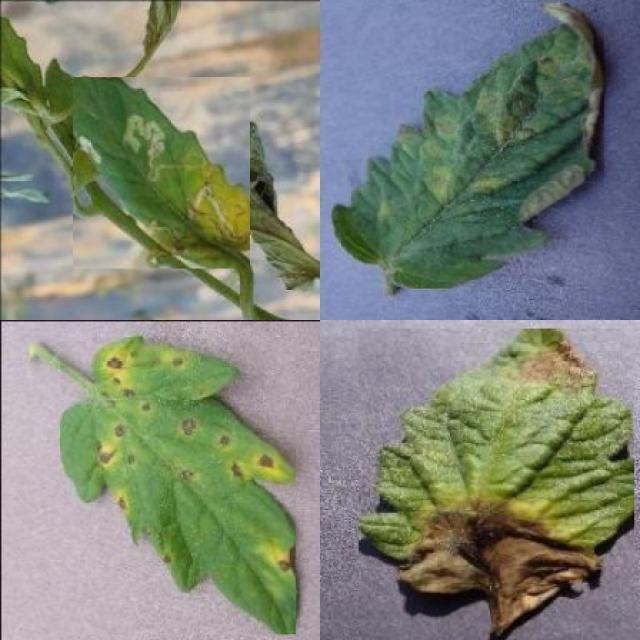Late Blight: (359, 329, 634, 640)
Leaf Miner: (73, 77, 250, 269)
Leaf Mold: (334, 4, 604, 289)
Septoria: (60, 338, 296, 635)
